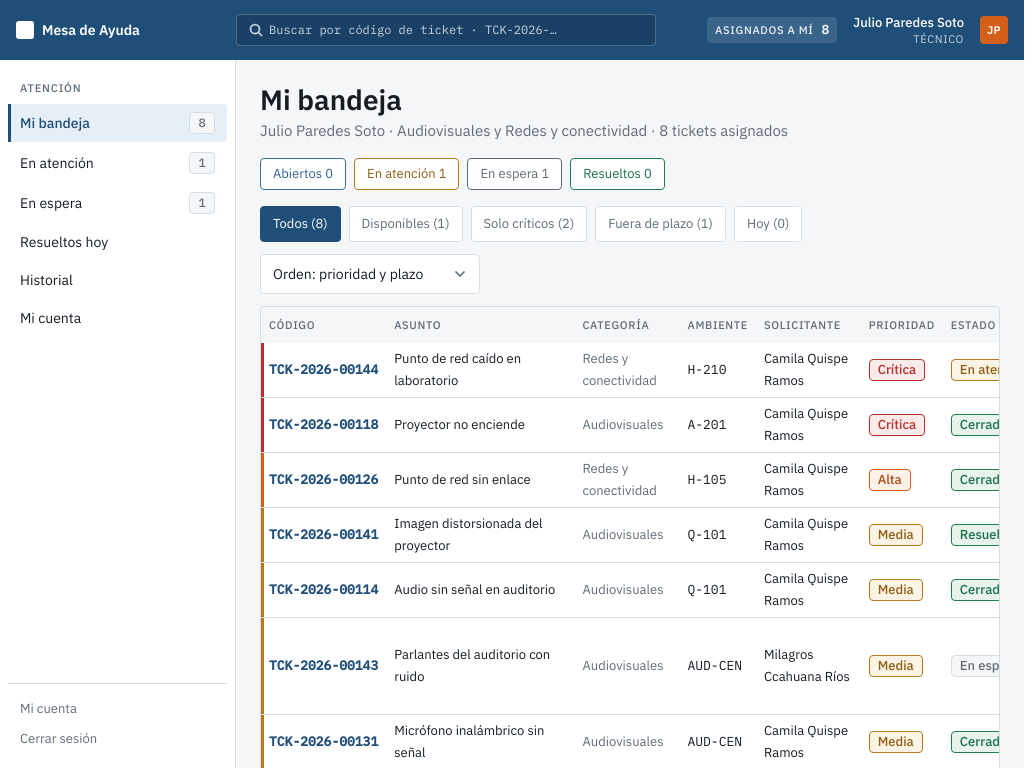
HU-4 · cola y bandeja › el indicador Abiertos de la bandeja muestra solo los tickets abiertos
This screenshot has width=1036, height=768.
Click the button "Abiertos 0" at (303, 174), box x1=260 y1=158 x2=346 y2=190
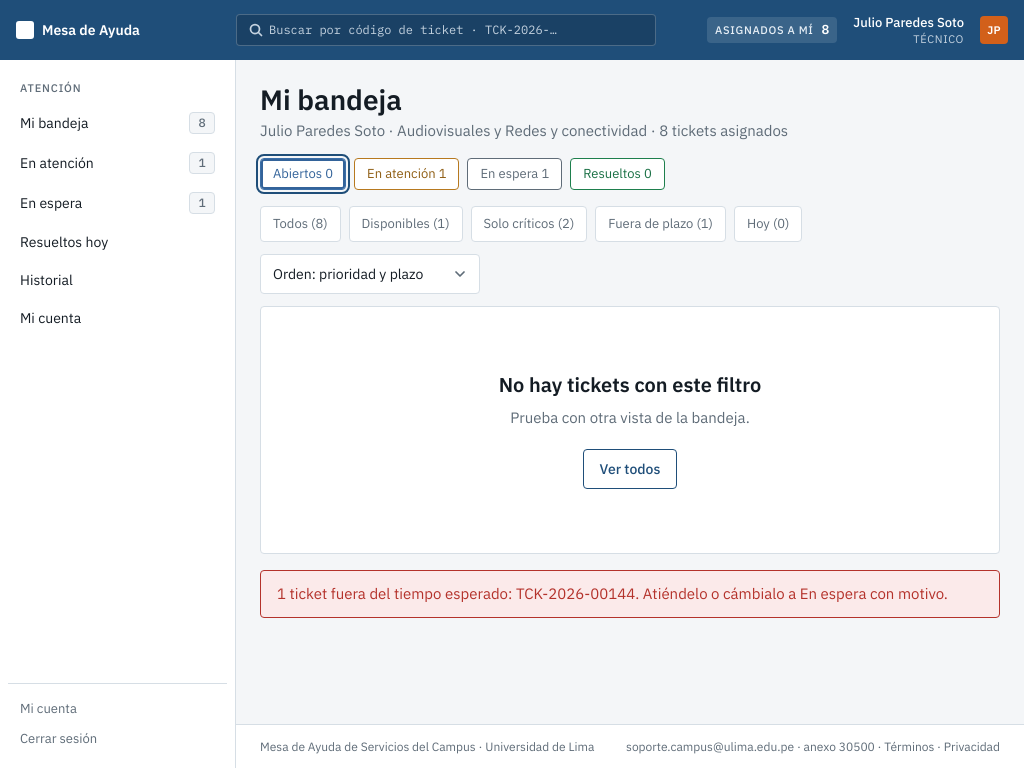
Check: the heading "No hay tickets con este filtro" is shown, box x1=499 y1=371 x2=761 y2=399
